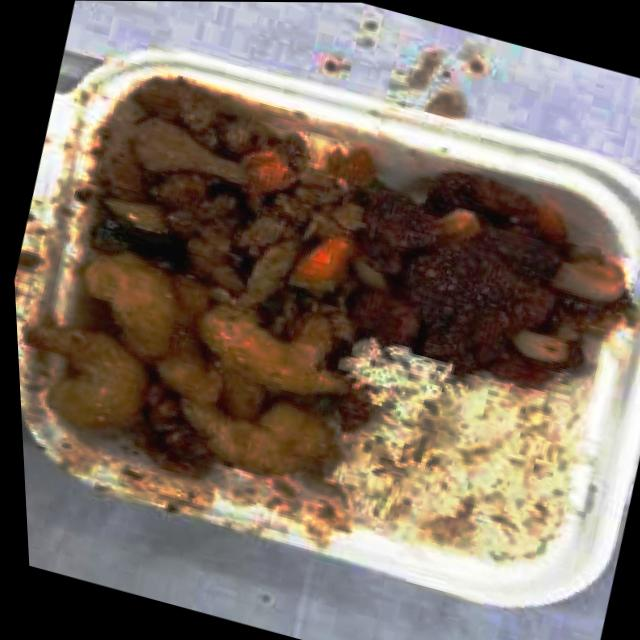Beijing Beef: (339, 153, 615, 396)
Kung Pao Chicken: (83, 74, 400, 331)
rice: (315, 341, 595, 573), (334, 349, 595, 576)
